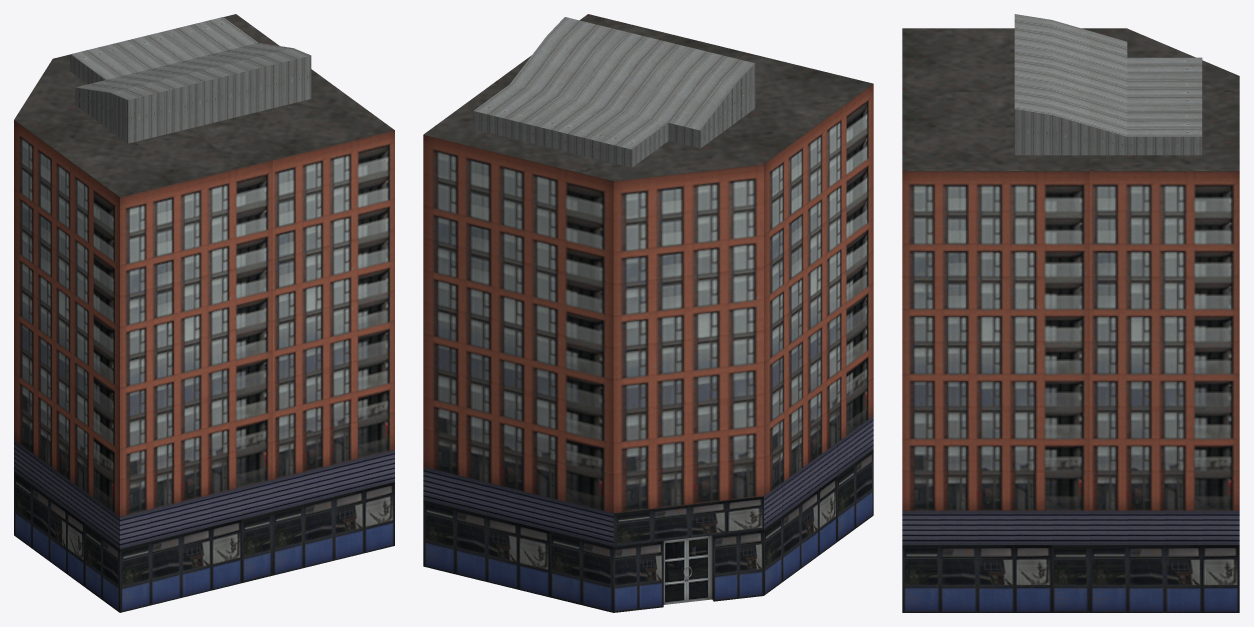
File: building3.fbx
3 views of the same model, side by side, from view 1: azimuth 30°, elevation 25°; view 2: azimuth 150°, elevation 25°; view 3: azimuth 270°, elevation 25° (orthographic). The views are drawn at different scales.
Parts seen in each view (by area): view 1: building3; view 2: building3; view 3: building3.
Boxes of the visible parts, left/top/right/bottom form: building3: left=14, top=14, right=394, bottom=612; building3: left=423, top=14, right=873, bottom=612; building3: left=902, top=14, right=1239, bottom=612.
Bounding box in the file's own units: 1000 × 1000 × 1595.
Materials: 1 (1 with a texture image).
